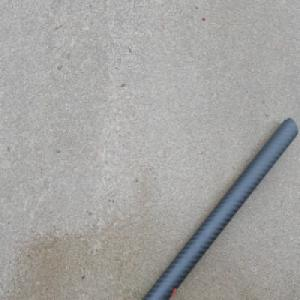LuggagePart: (140, 115, 293, 300)
